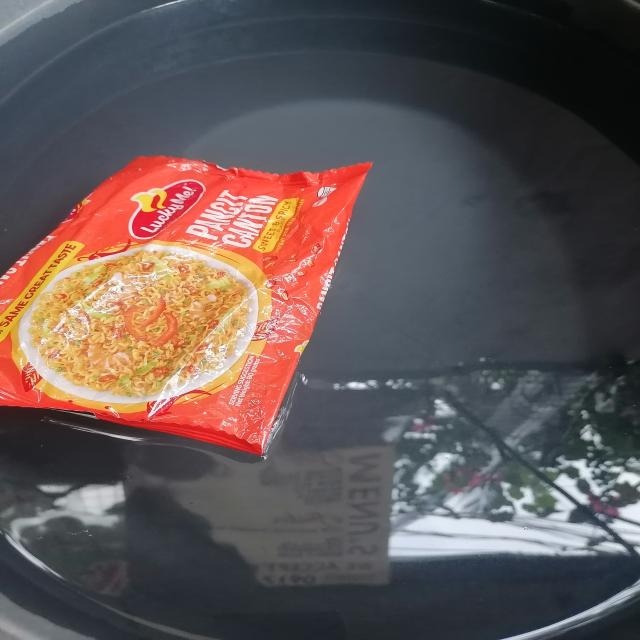Plastic Wrapper: (0, 156, 371, 451)
